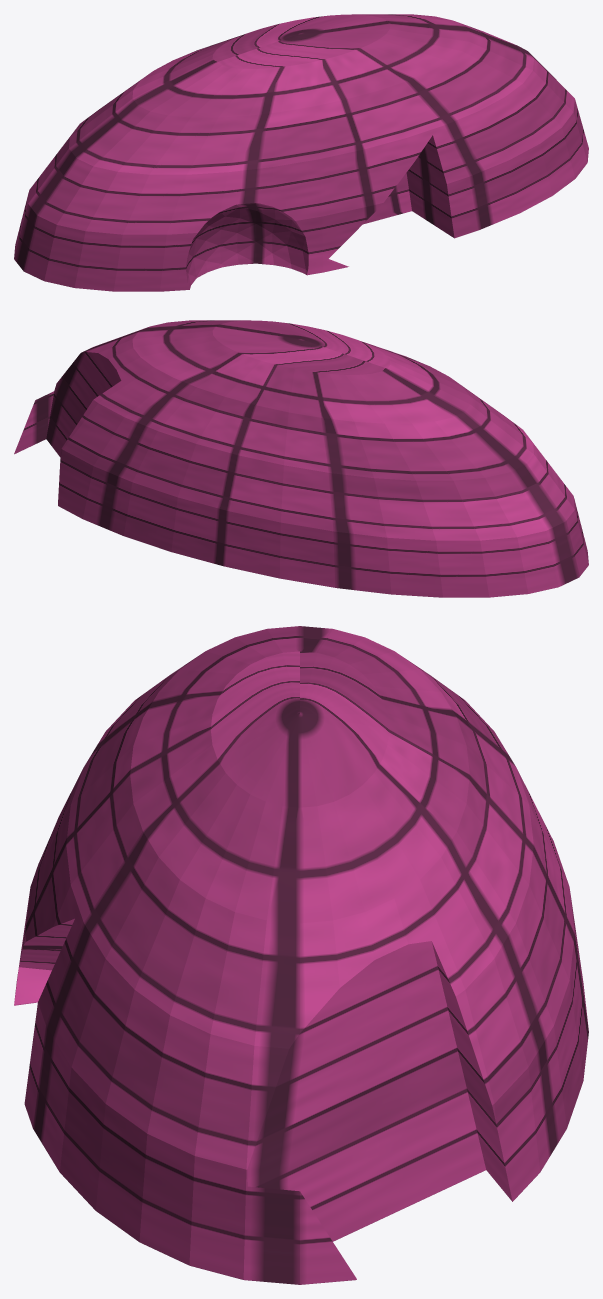
3 renders of one model, top to bottom at view 1: azimuth 30°, elevation 25°; view 2: azimuth 150°, elevation 25°; view 3: azimuth 270°, elevation 25°, orthographic. The views are drawn at different scales.
Parts seen in each view (by area): view 1: geometry_0; view 2: geometry_0; view 3: geometry_0.
Part boxes in pixels (<box>): geometry_0: <box>14,14,588,291</box>; geometry_0: <box>14,320,588,597</box>; geometry_0: <box>14,626,588,1284</box>.
Size of the model in its own units: 2.84 by 0.8333 by 1.37.
1 material, 1 textured.
